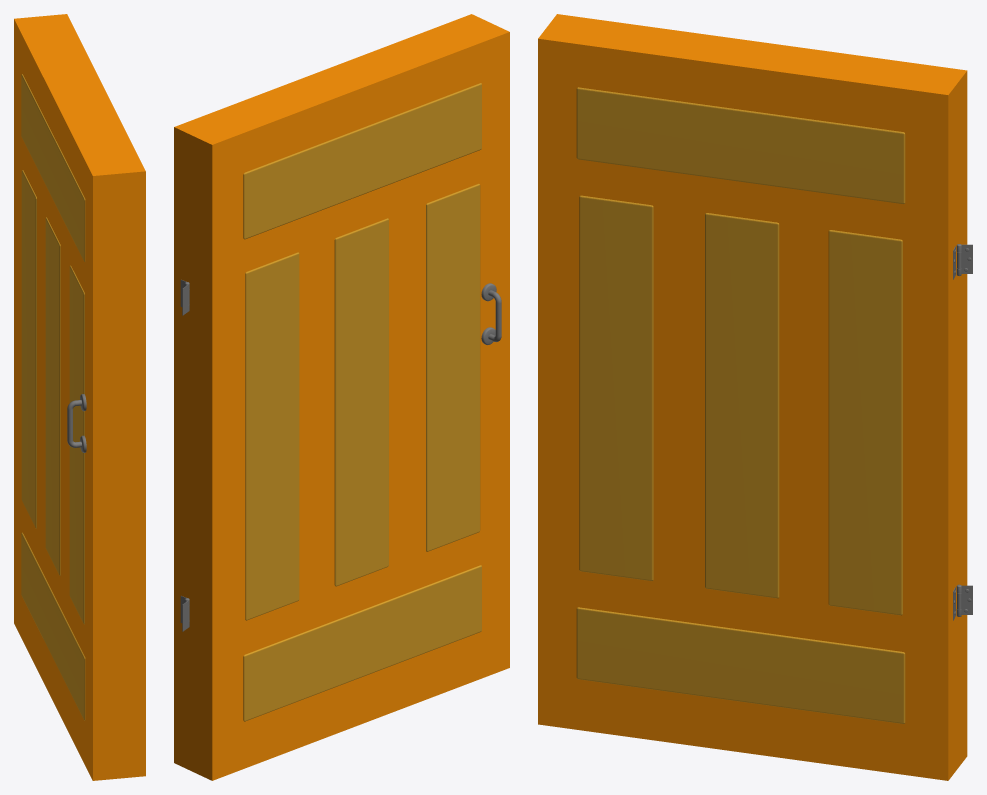
Rendered from haalga1_o.glb.
The picture shows the model from 3 angles, left to right: view 1: azimuth 30°, elevation 25°; view 2: azimuth 150°, elevation 25°; view 3: azimuth 270°, elevation 25°; orthographic projection. The views are drawn at different scales.
Parts seen in each view (by area): view 1: polySurface48, polySurface51, polySurface52, polySurface50, polySurface53, polySurface49, polySurface13; view 2: polySurface48, polySurface52, polySurface50, polySurface51, polySurface53, polySurface49, polySurface13; view 3: polySurface48, polySurface50, polySurface52, polySurface51, polySurface53, polySurface49.
Part boxes in pixels (box(x1,y1,x2,y2)): polySurface48: box(14, 14, 145, 780); polySurface51: box(45, 217, 60, 575); polySurface52: box(21, 170, 36, 528); polySurface50: box(69, 265, 84, 624); polySurface53: box(21, 532, 85, 720); polySurface49: box(21, 74, 85, 261); polySurface13: box(67, 394, 86, 452); polySurface48: box(174, 14, 509, 780); polySurface52: box(245, 252, 299, 620); polySurface50: box(426, 183, 480, 551); polySurface51: box(334, 218, 388, 586); polySurface53: box(243, 565, 481, 721); polySurface49: box(243, 83, 481, 239); polySurface13: box(481, 283, 501, 345); polySurface48: box(538, 14, 967, 780); polySurface50: box(579, 195, 653, 581); polySurface52: box(828, 230, 902, 615); polySurface51: box(705, 213, 779, 598); polySurface53: box(576, 607, 905, 723); polySurface49: box(576, 87, 905, 203).
Bounding box in the file's own units: 1.68 × 6.26 × 3.6.
